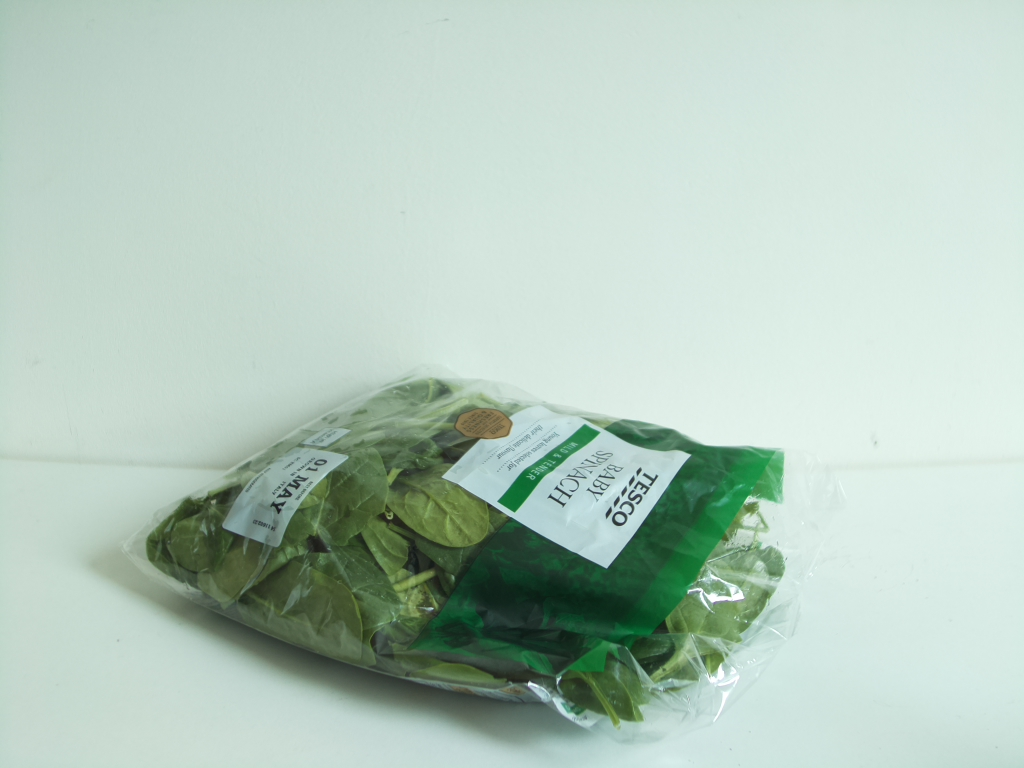salad: (147, 370, 791, 724)
